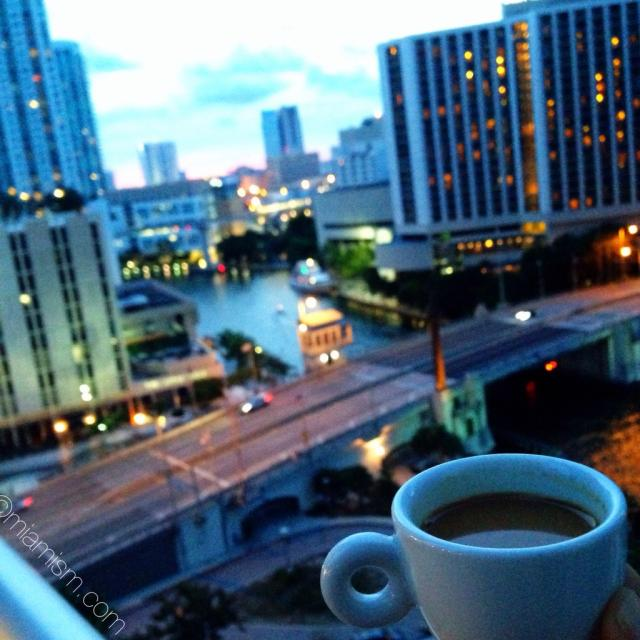Coffee: (420, 496, 606, 550)
